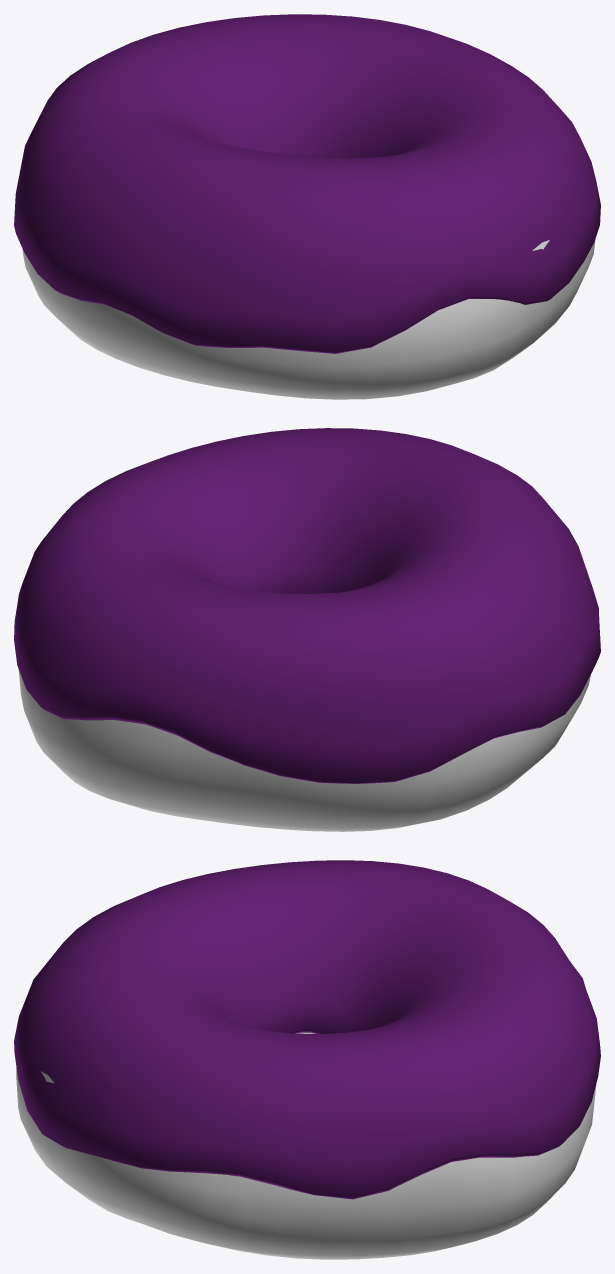
Rendered from Donut_00v00.fbx.
3 renders of one model, top to bottom at view 1: azimuth 30°, elevation 25°; view 2: azimuth 150°, elevation 25°; view 3: azimuth 270°, elevation 25°, orthographic. The views are drawn at different scales.
Visible parts, largest first — view 1: Icing, Donut; view 2: Icing, Donut; view 3: Icing, Donut.
Boxes of the visible parts, bbox=[...] form: Icing: bbox=[14, 14, 600, 353]; Donut: bbox=[22, 239, 595, 399]; Icing: bbox=[14, 428, 600, 783]; Donut: bbox=[18, 669, 590, 831]; Icing: bbox=[14, 860, 600, 1199]; Donut: bbox=[16, 1032, 596, 1259].
Size of the model in its own units: 29.13 by 13.17 by 29.49.
